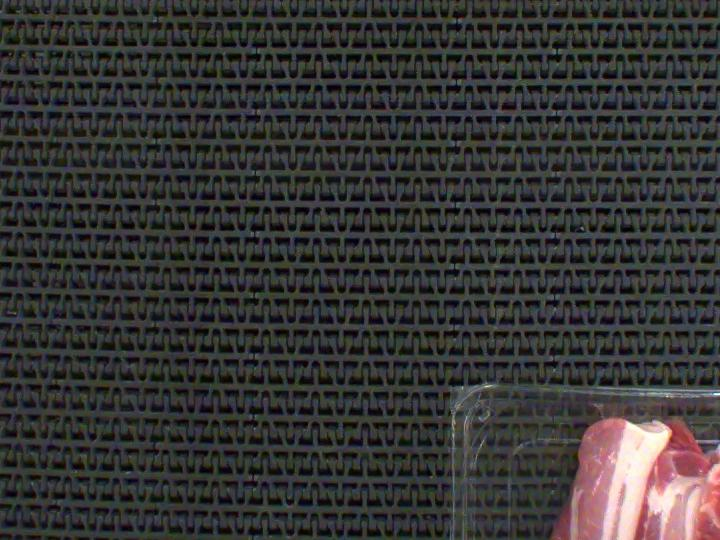packaging-error: (589, 393, 634, 422)
